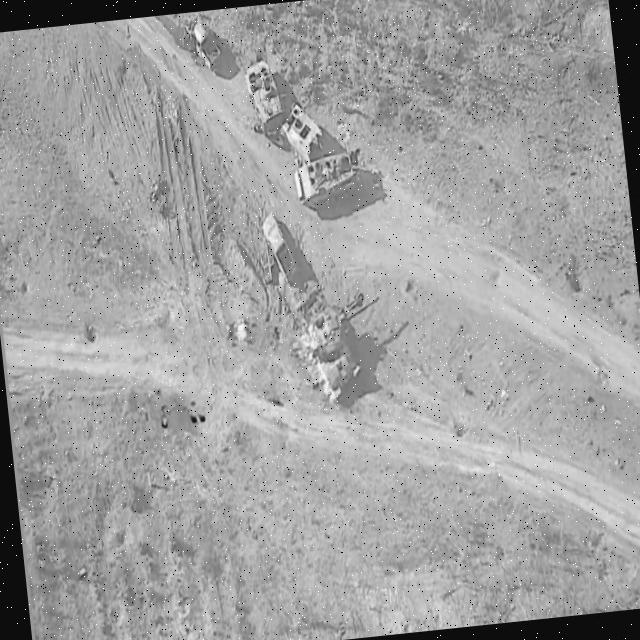AIFV: (290, 147, 365, 213), (242, 59, 288, 137)
APC: (280, 102, 327, 165)
MBT: (305, 298, 390, 408)
Vehicle: (259, 210, 301, 290), (181, 18, 228, 81)
